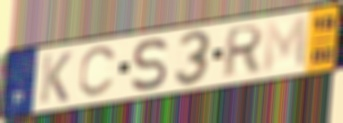3: (172, 29, 214, 87)
C: (76, 43, 120, 100)
K: (37, 50, 74, 106)
M: (261, 14, 309, 76)
R: (219, 22, 266, 81)
S: (129, 36, 171, 93)
